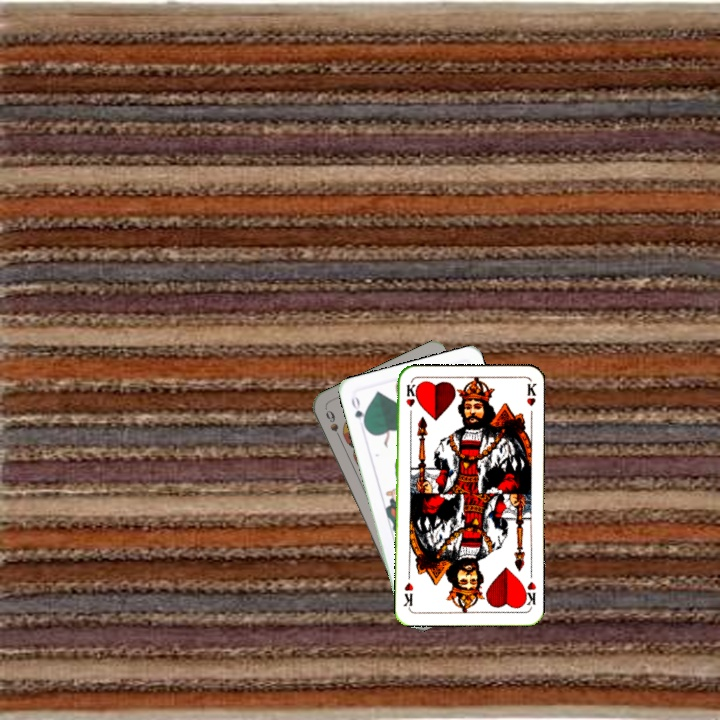GO: (347, 392, 369, 431)
HK: (402, 380, 418, 421), (519, 578, 539, 609)
S9: (322, 406, 345, 444)
